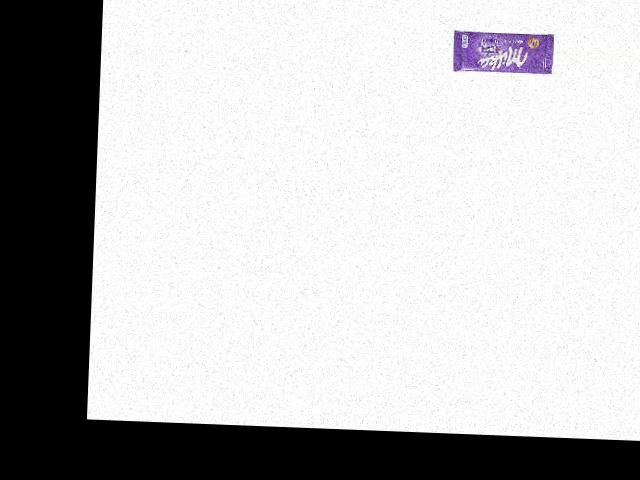chocolate: (447, 24, 555, 77)
